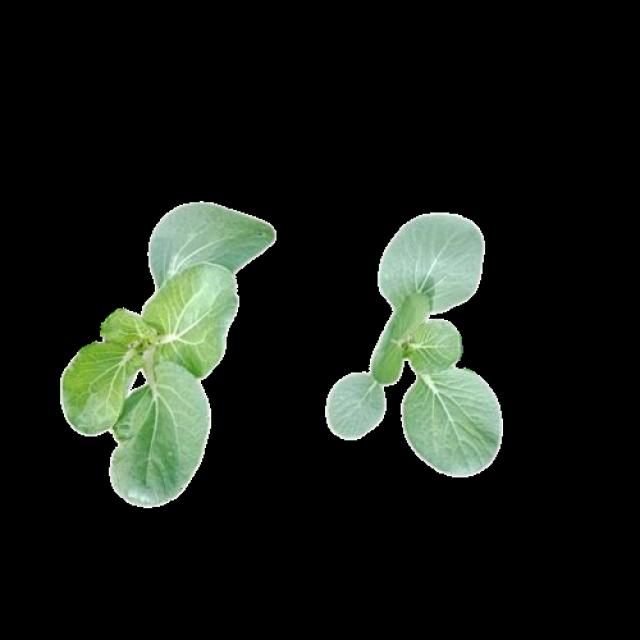healthy: (63, 204, 275, 503), (329, 215, 500, 472)
not-mature: (60, 201, 273, 500), (329, 216, 500, 474)
